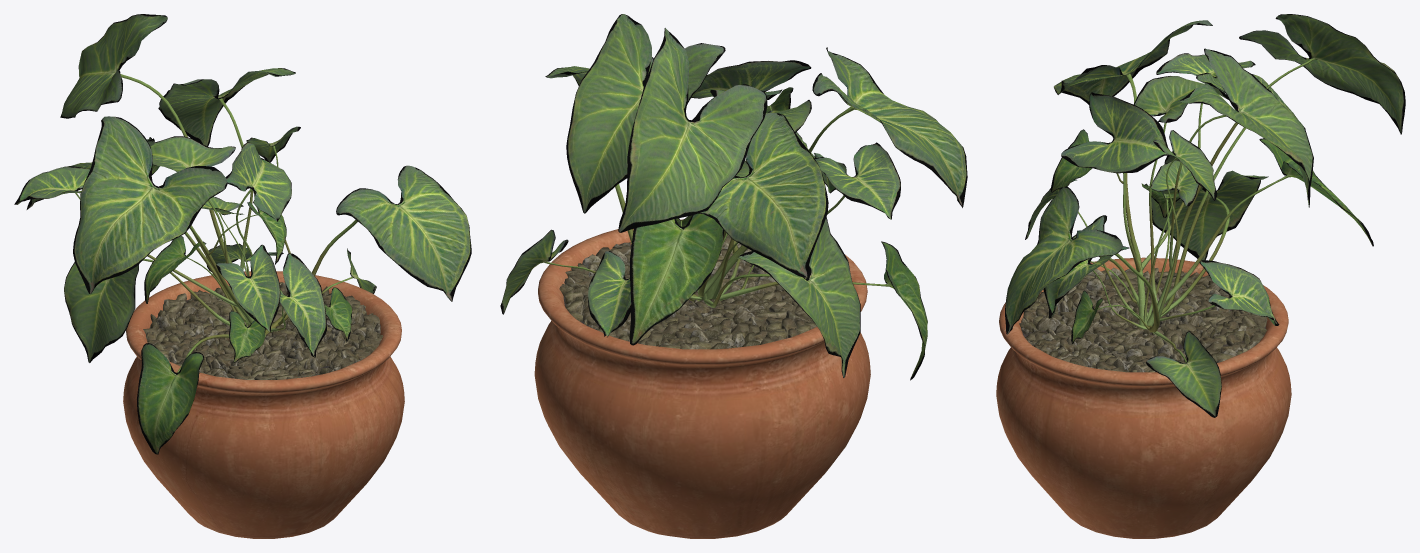
Rendered from potted_plant_02.glb.
3 views of the same model, side by side, from view 1: azimuth 30°, elevation 25°; view 2: azimuth 150°, elevation 25°; view 3: azimuth 270°, elevation 25° (orthographic). The views are drawn at different scales.
Parts seen in each view (by area): view 1: potted_plant_02_leaves, potted_plant_02_pot, potted_plant_02_dirt; view 2: potted_plant_02_leaves, potted_plant_02_pot, potted_plant_02_dirt; view 3: potted_plant_02_leaves, potted_plant_02_pot, potted_plant_02_dirt.
Boxes of the visible parts, left/top/right/bottom form: potted_plant_02_leaves: left=14, top=14, right=471, bottom=454; potted_plant_02_pot: left=123, top=271, right=404, bottom=538; potted_plant_02_dirt: left=143, top=282, right=383, bottom=379; potted_plant_02_leaves: left=500, top=14, right=967, bottom=380; potted_plant_02_pot: left=534, top=219, right=870, bottom=538; potted_plant_02_dirt: left=559, top=235, right=816, bottom=349; potted_plant_02_leaves: left=1005, top=14, right=1405, bottom=417; potted_plant_02_pot: left=996, top=257, right=1291, bottom=538; potted_plant_02_dirt: left=1019, top=267, right=1267, bottom=372.
Size of the model in its own units: 0.7009 by 0.8412 by 0.6574.
Materials: 2 (2 with a texture image).
